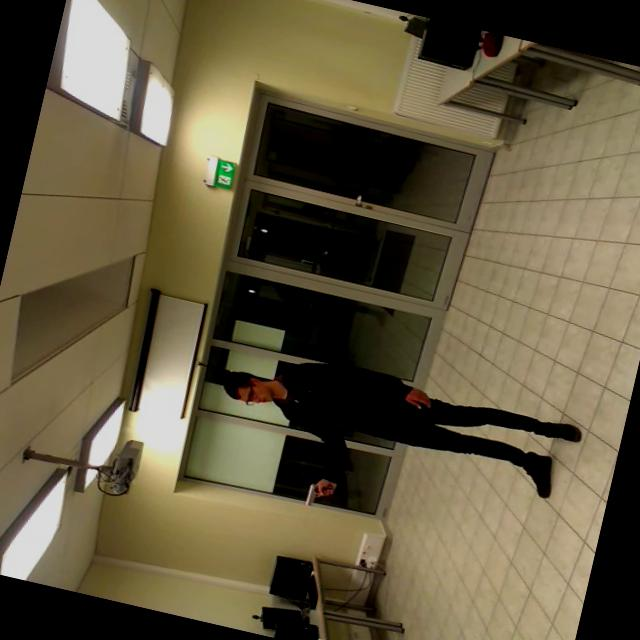handgun: (292, 473, 344, 516)
